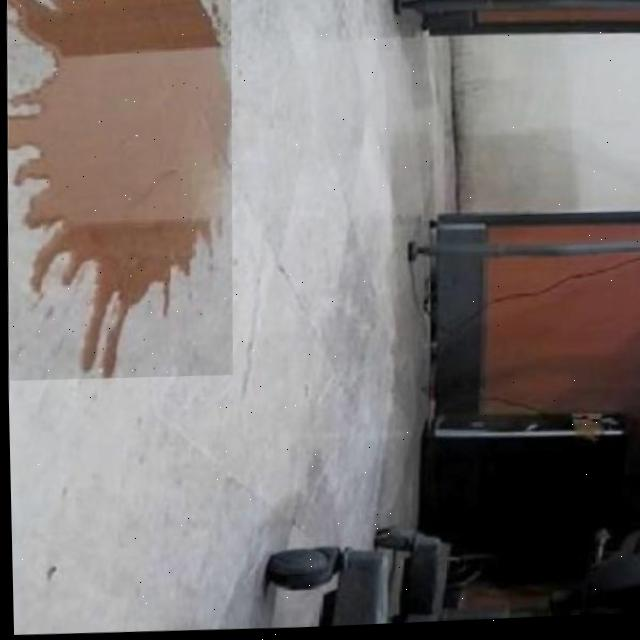spillage: (8, 0, 229, 378)
